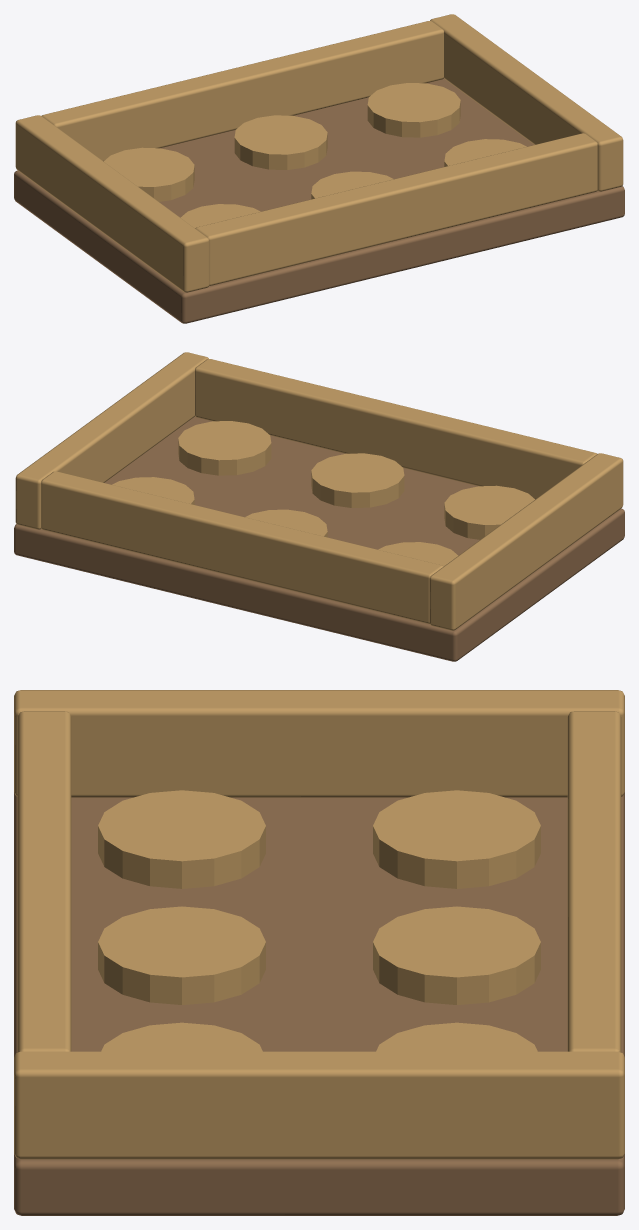
File: fantasy-bathhouse-and-thermal-sanctuary-fantasy-bathho-2c9f79f5__29475.glb
The picture shows the model from 3 angles, top to bottom: view 1: azimuth 30°, elevation 25°; view 2: azimuth 150°, elevation 25°; view 3: azimuth 270°, elevation 25°; orthographic projection. The views are drawn at different scales.
Parts seen in each view (by area): view 1: fantasy-bathhouse-and-thermal-sanctuary-admission-token-tray (×2); view 2: fantasy-bathhouse-and-thermal-sanctuary-admission-token-tray (×2); view 3: fantasy-bathhouse-and-thermal-sanctuary-admission-token-tray (×2).
Boxes of the visible parts, left/top/right/bottom form: fantasy-bathhouse-and-thermal-sanctuary-admission-token-tray (×2): left=14, top=14, right=624, bottom=323; fantasy-bathhouse-and-thermal-sanctuary-admission-token-tray (×2): left=14, top=352, right=624, bottom=661; fantasy-bathhouse-and-thermal-sanctuary-admission-token-tray (×2): left=14, top=690, right=624, bottom=1215.
Bounding box in the file's own units: 0.6 × 0.105 × 0.4.
